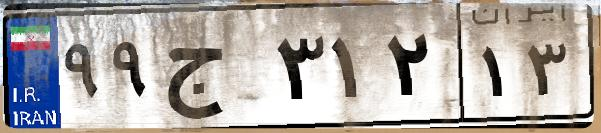1: (330, 28, 385, 110), (475, 38, 525, 113)
2: (385, 28, 445, 110)
3: (270, 28, 330, 110), (525, 38, 570, 115)
9: (57, 26, 110, 100), (110, 28, 158, 98)
ج: (158, 20, 270, 120)
